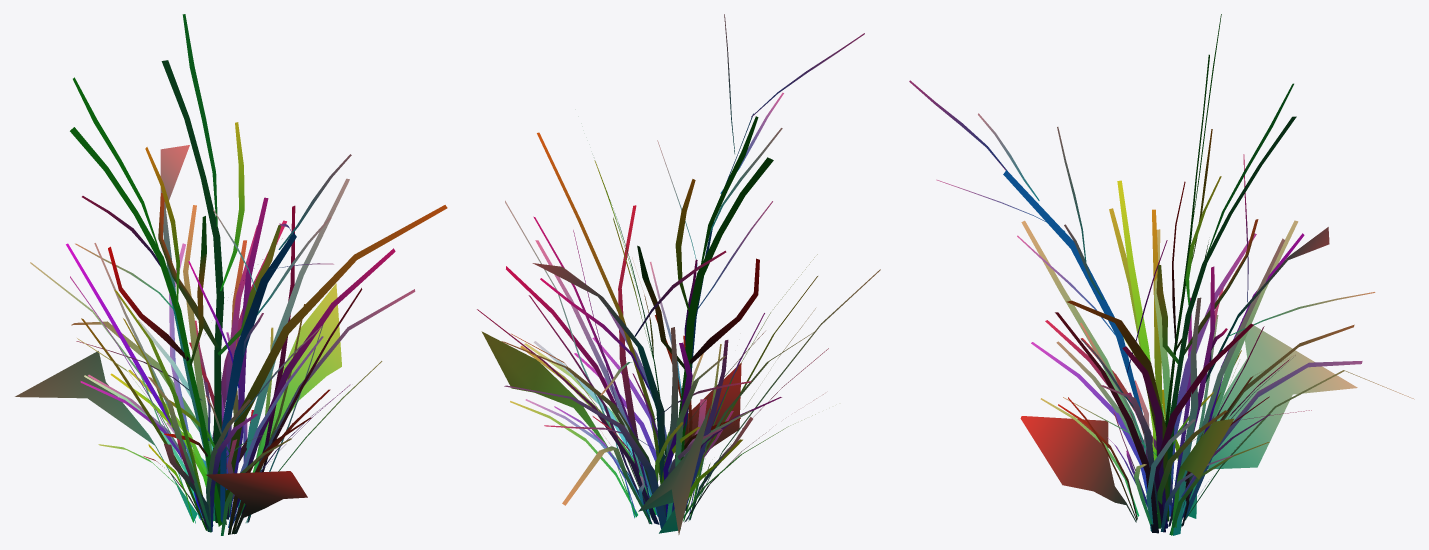
File: Wild_Grass_sjliZ_Mid_sjliZ_VarA_LOD0.fbx
3 renders of one model, left to right at view 1: azimuth 30°, elevation 25°; view 2: azimuth 150°, elevation 25°; view 3: azimuth 270°, elevation 25°, orthographic.
Visible parts, largest first — view 1: _babc_VarA_LOD1; view 2: _babc_VarA_LOD1; view 3: _babc_VarA_LOD1.
Part boxes in pixels (x1=…): _babc_VarA_LOD1: x1=15, y1=14, x2=447, y2=535; _babc_VarA_LOD1: x1=477, y1=14, x2=880, y2=534; _babc_VarA_LOD1: x1=909, y1=14, x2=1414, y2=535.
Size of the model in its own units: 89.24 by 119 by 121.
